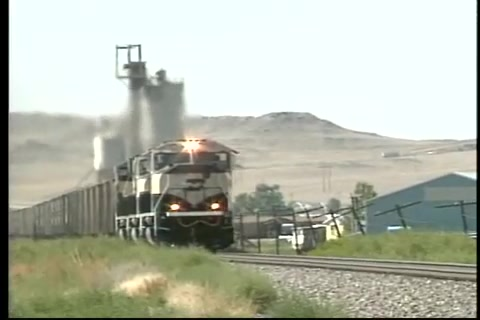train: (9, 136, 240, 245)
